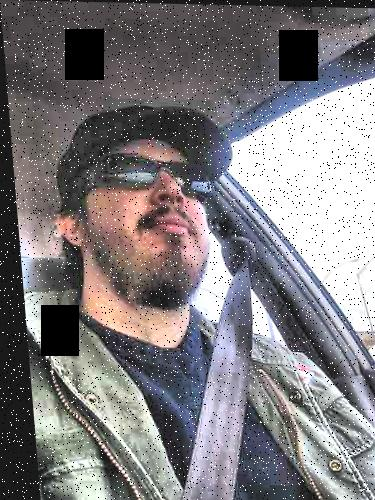seatbelt: (165, 229, 307, 490)
